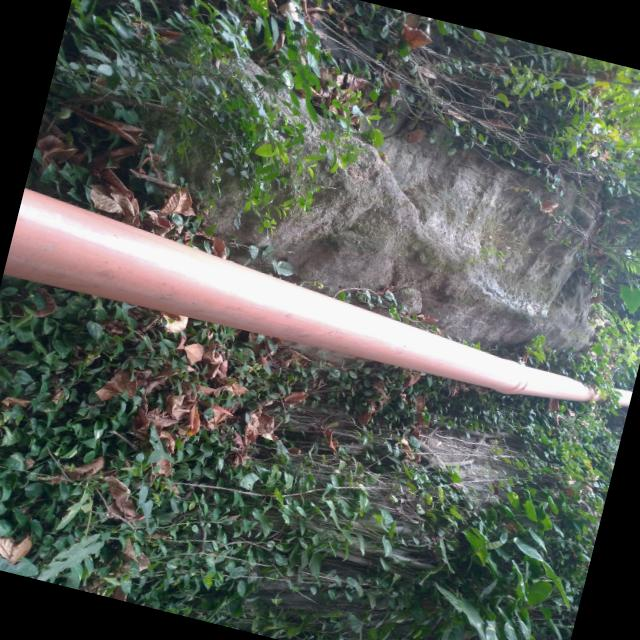gas: (2, 186, 632, 405)
